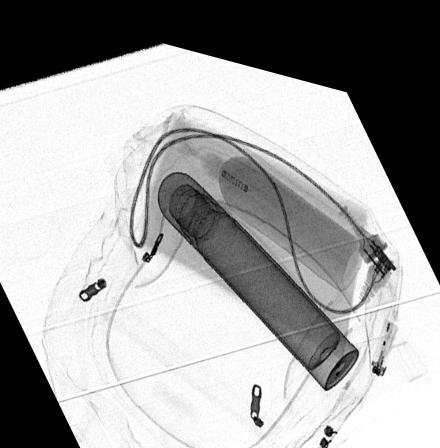Lighter: (370, 295, 399, 356)
